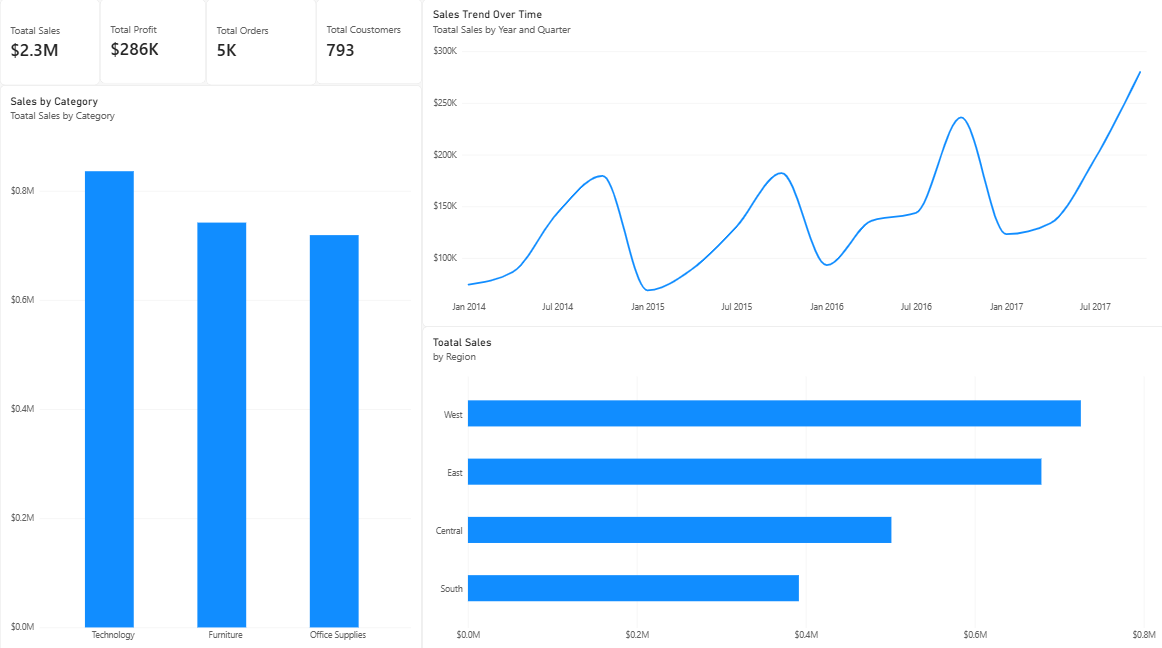

The dashboard page shown, as its layout file describes it:
{"tool":"powerbi","page":{"name":"Dashboard Overview","canvas":[1920,1080],"ordinal":0},"visuals":[{"type":"cardVisual","fields":{"Data":["Superstore.Total Orders"]},"box":[339.6,0,181.1,142],"z":0},{"type":"cardVisual","fields":{"Data":["Superstore.Total Coustomers"]},"box":[520,0,174,140],"z":1000},{"type":"cardVisual","fields":{"Data":["Superstore.Toatal Sales"]},"box":[0,0,164.7,142],"z":2000},{"type":"cardVisual","fields":{"Data":["Superstore.Total Profit"]},"box":[164.7,0,175,140],"z":3000},{"type":"lineChart","title":"Sales Trend Over Time","fields":{"Category":["Superstore.Order Date.Variation.Date Hierarchy.Year","Superstore.Order Date.Variation.Date Hierarchy.Quarter"],"Y":["Superstore.Toatal Sales"]},"box":[695,0,1225,540],"z":4000},{"type":"clusteredColumnChart","title":"Sales by Category","fields":{"Category":["Superstore.Category"],"Y":["Superstore.Toatal Sales"]},"box":[0,142,694,938],"z":5000},{"type":"clusteredBarChart","fields":{"Category":["Superstore.Region"],"Y":["Superstore.Toatal Sales"]},"box":[695,540,1225,540],"z":6000}]}

Visuals, with their boxes in screenshot pixels (x1, y1, x2, y2), scaled from the page's 1920x1080 canvas onto the 1162x648 screenshot:
cardVisual - Superstore.Total Orders: (left=206, top=0, right=315, bottom=85)
cardVisual - Superstore.Total Coustomers: (left=315, top=0, right=420, bottom=84)
cardVisual - Superstore.Toatal Sales: (left=0, top=0, right=100, bottom=85)
cardVisual - Superstore.Total Profit: (left=100, top=0, right=206, bottom=84)
"Sales Trend Over Time" lineChart: (left=421, top=0, right=1161, bottom=324)
"Sales by Category" clusteredColumnChart: (left=0, top=85, right=420, bottom=647)
clusteredBarChart - Superstore.Region x Superstore.Toatal Sales: (left=421, top=324, right=1161, bottom=647)
